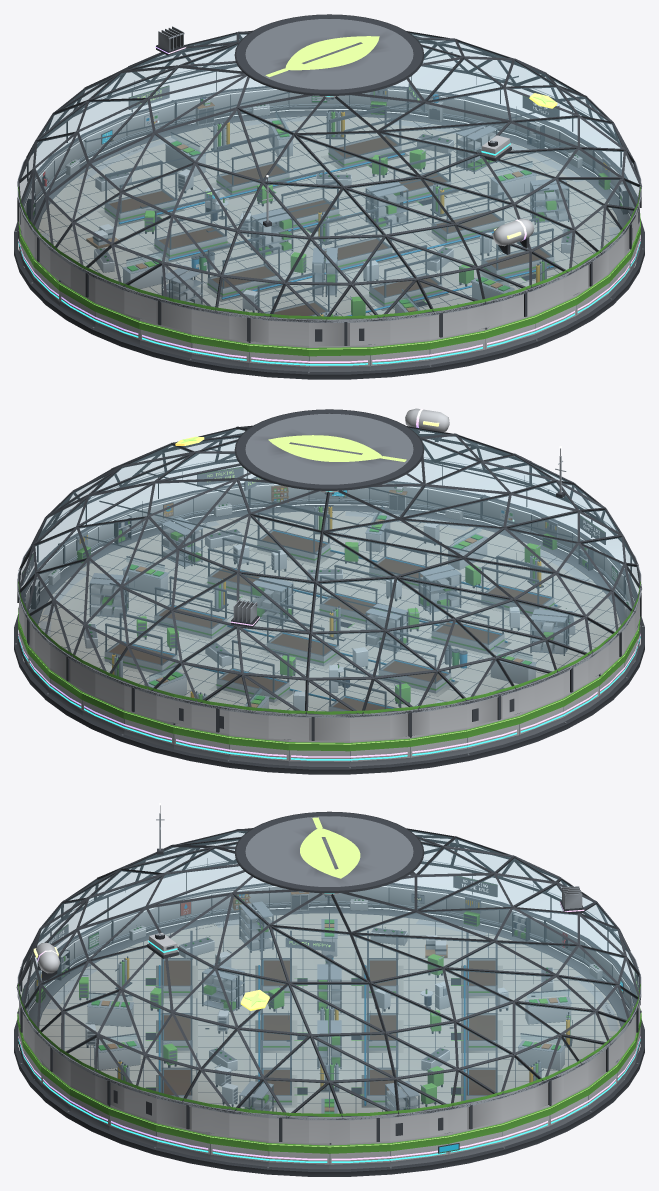
The model's file is greenhouse_xl.glb.
3 views of the same model, one above another, from view 1: azimuth 30°, elevation 25°; view 2: azimuth 150°, elevation 25°; view 3: azimuth 270°, elevation 25° (orthographic).
Parts seen in each view (by area): view 1: Roof, Base, Interior, RoofCeil, L4, Upper_20, Wall_20, Wall_21, Wall_22, Upper_22, Wall_19, Upper_19 (+33 smaller); view 2: Roof, Base, Interior, RoofCeil, Wall_10, Upper_11, Wall_11, L4, Wall_09, Upper_09, Upper_12, Upper_10 (+32 smaller); view 3: Roof, Base, Interior, Wall_00, Wall_31, Wall_30, Upper_00, Upper_31, Upper_30, Wall_01, Wall_13, Wall_29 (+30 smaller).
Boxes of the visible parts, x1,y1,x2,y2 form: Roof: (17, 14, 641, 322); Base: (14, 110, 644, 379); Interior: (40, 106, 619, 316); RoofCeil: (84, 52, 574, 245); L4: (155, 26, 534, 254); Upper_20: (248, 316, 308, 345); Wall_20: (248, 341, 308, 371); Wall_21: (309, 344, 370, 371); Wall_22: (370, 339, 429, 370); Upper_22: (370, 314, 429, 344); Wall_19: (191, 332, 248, 367); Upper_19: (191, 307, 248, 341); Roof: (17, 409, 641, 716); Base: (14, 505, 644, 774); Interior: (40, 501, 590, 711); RoofCeil: (84, 447, 574, 641); Wall_10: (288, 739, 349, 766); Upper_11: (350, 711, 410, 740); Wall_11: (350, 736, 410, 766); L4: (230, 408, 449, 627); Wall_09: (229, 734, 288, 765); Upper_09: (229, 708, 288, 739); Upper_12: (410, 702, 467, 736); Upper_10: (289, 714, 349, 740); Roof: (16, 811, 640, 1119); Base: (14, 907, 644, 1176); Interior: (46, 901, 619, 1113); Wall_00: (329, 1141, 390, 1169); Wall_31: (268, 1141, 329, 1169); Wall_30: (210, 1133, 268, 1166); Upper_00: (329, 1118, 390, 1143); Upper_31: (268, 1118, 329, 1143); Upper_30: (210, 1107, 268, 1140); Wall_01: (390, 1133, 448, 1166); Wall_13: (446, 890, 501, 928); Wall_29: (156, 1121, 210, 1158).
Bounding box in the file's own units: 28.54 × 9.58 × 28.54.
